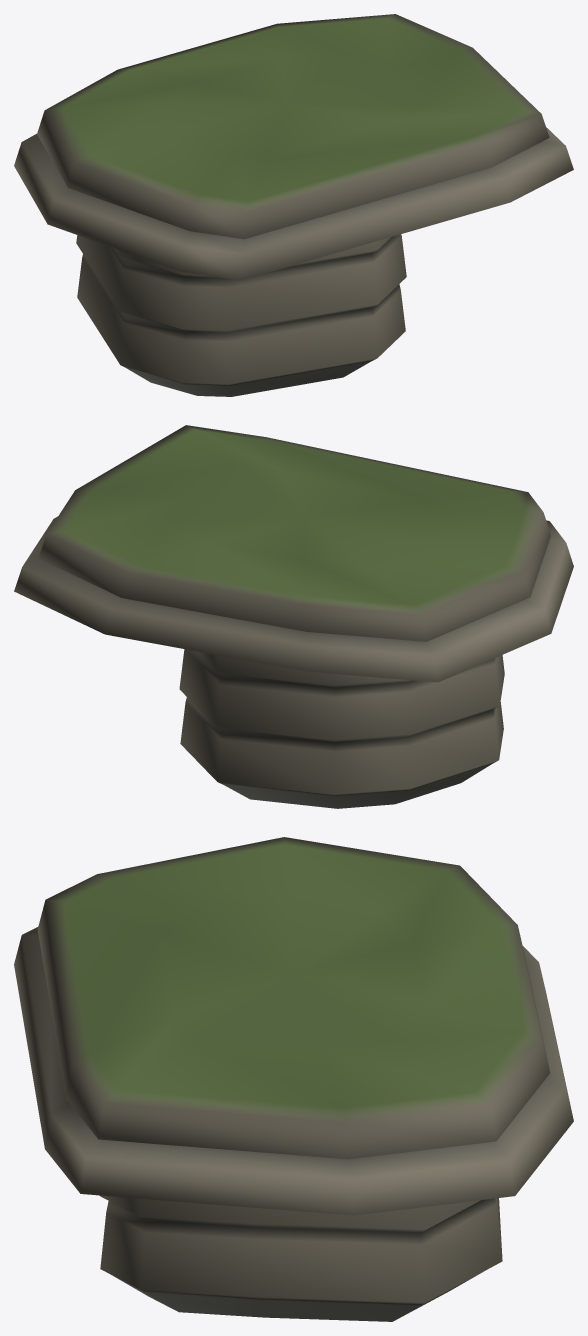
Rendered from Shale Overhang.glb.
3 renders of one model, top to bottom at view 1: azimuth 30°, elevation 25°; view 2: azimuth 150°, elevation 25°; view 3: azimuth 270°, elevation 25°, orthographic. The views are drawn at different scales.
Visible parts, largest first — view 1: Shale Overhang; view 2: Shale Overhang; view 3: Shale Overhang.
Part boxes in pixels (box(x1,y1,x2,y2)): Shale Overhang: box(14, 14, 573, 396); Shale Overhang: box(14, 425, 573, 808); Shale Overhang: box(14, 837, 573, 1321).
Bounding box in the file's own units: 2.35 × 1.12 × 1.77.
